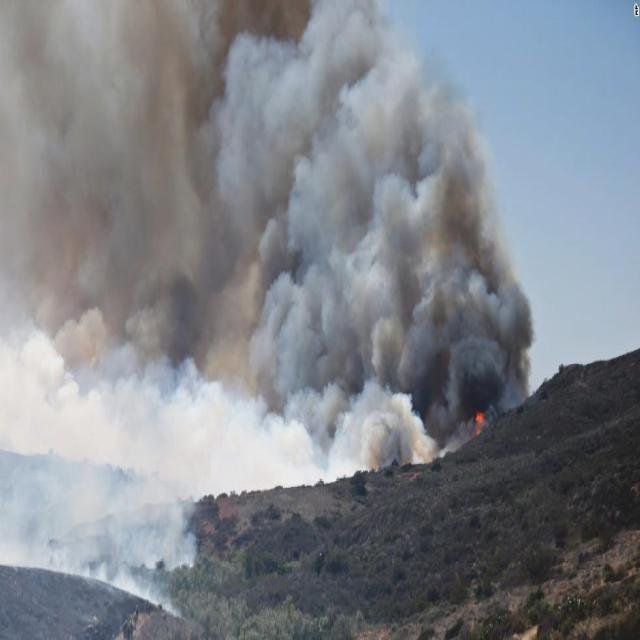Fire: (471, 405, 486, 436)
